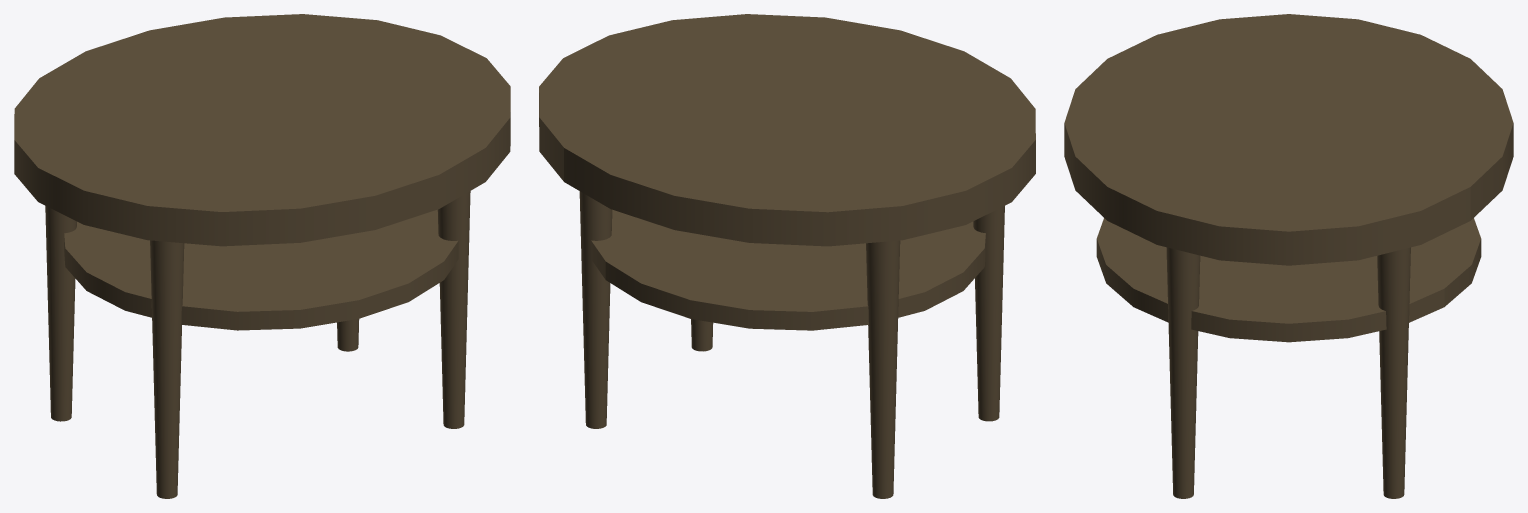
Rendered from SIDETABLE.fbx.
The picture shows the model from 3 angles, left to right: view 1: azimuth 30°, elevation 25°; view 2: azimuth 150°, elevation 25°; view 3: azimuth 270°, elevation 25°; orthographic projection.
Parts seen in each view (by area): view 1: side_table_002; view 2: side_table_002; view 3: side_table_002.
Part boxes in pixels (left/top/right/bottom): side_table_002: left=14, top=14, right=510, bottom=498; side_table_002: left=539, top=14, right=1035, bottom=498; side_table_002: left=1064, top=14, right=1513, bottom=498.
Bounding box in the file's own units: 1.56 × 1.02 × 1.36.
